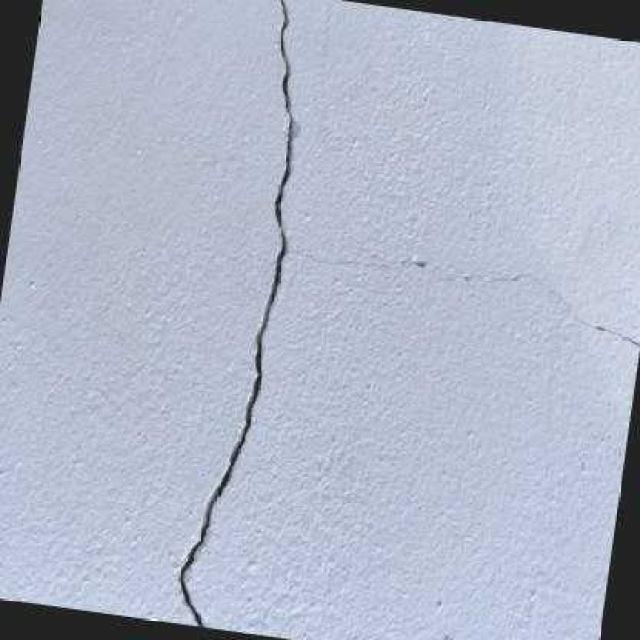D00: (177, 0, 292, 627)
